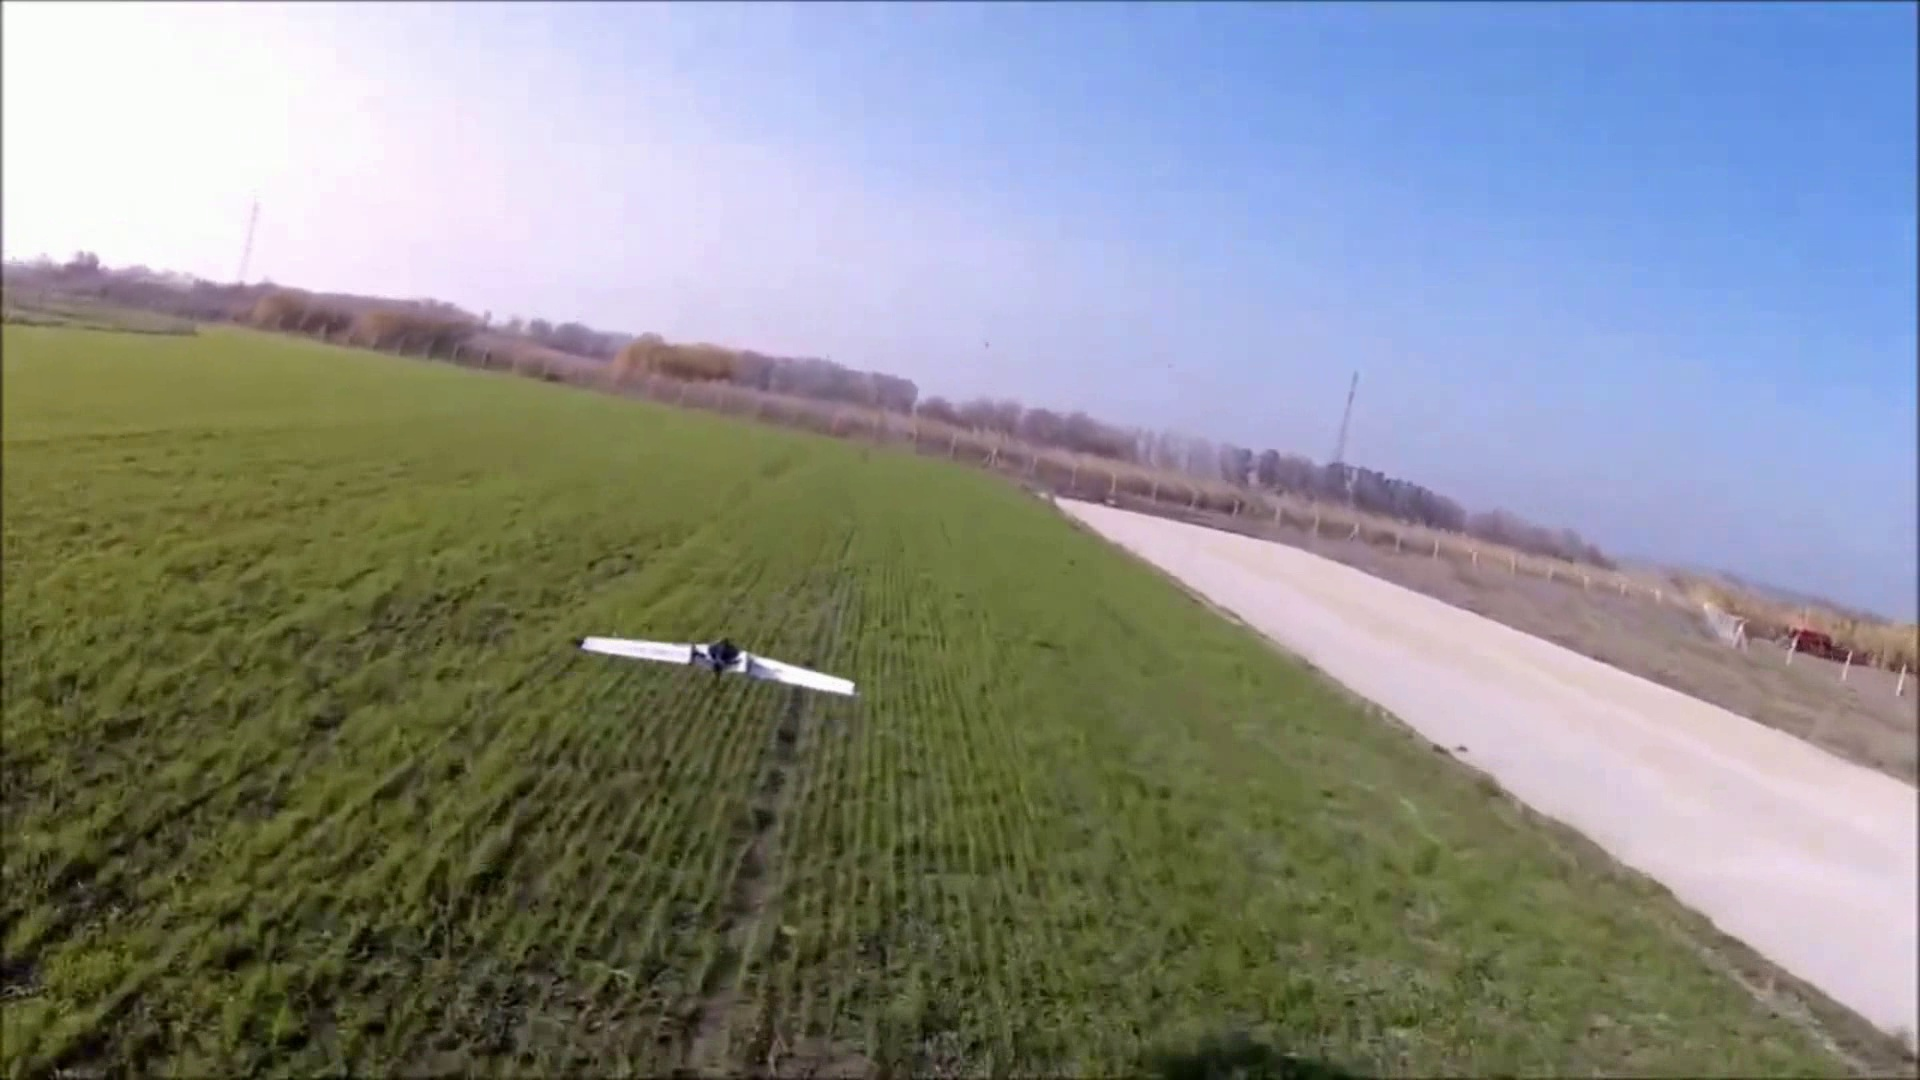airplane: (582, 630, 857, 700)
